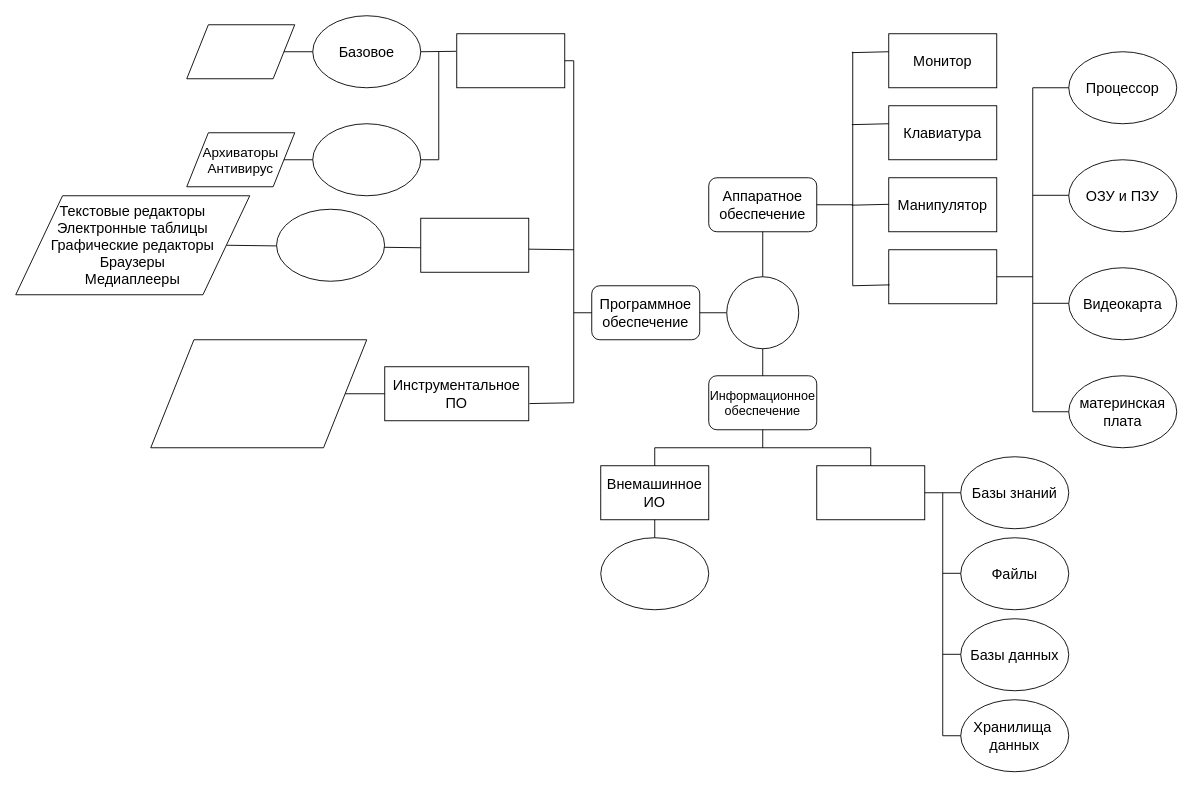
Some shapes in this 1193 by 788 pixel diagram are drawn without their labels. Here are the shapes that lost their labels. From the top down, the centre of each, then its label:
At point 240,51: "ОС".
At point 510,60: "Системное ПО".
At point 366,159: "Служебное (сервисное)".
At point 330,244: "Общего назначения".
At point 474,244: "Прикладное ПО".
At point 942,276: "Системный блок".
At point 762,312: "Рабочее место".
At point 258,393: "Среды программирования Специальные текстовые редакторы".
At point 870,492: "Внутримашинное ИО".
At point 654,573: "Управленческие документы".
